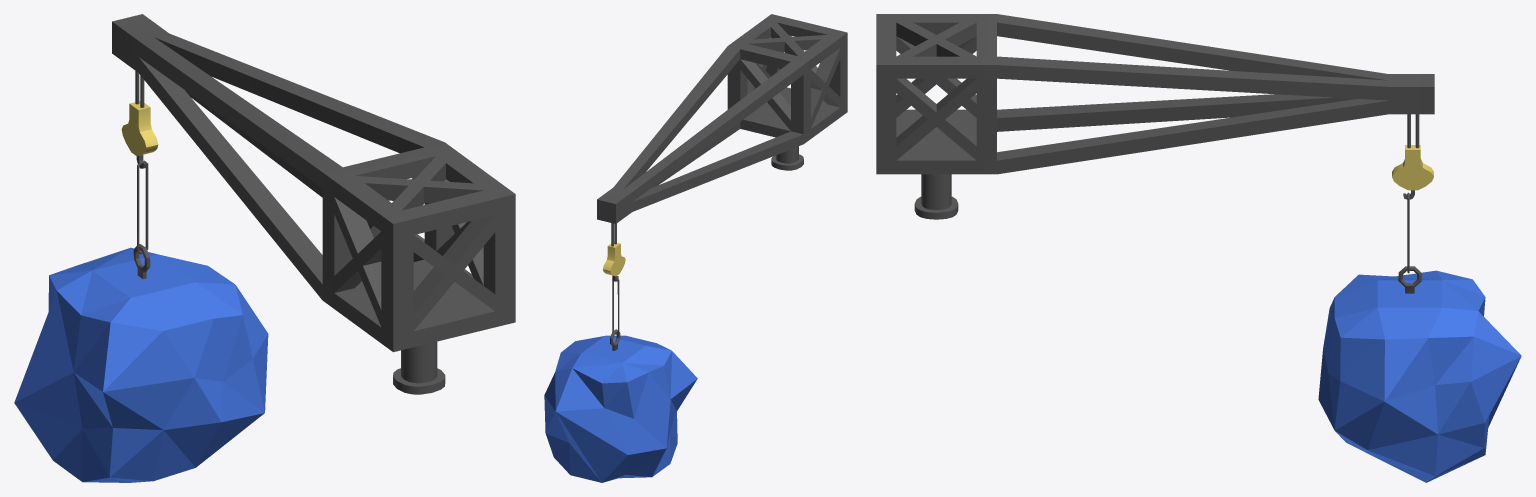
File: crane_top.fbx
3 renders of one model, left to right at view 1: azimuth 30°, elevation 25°; view 2: azimuth 150°, elevation 25°; view 3: azimuth 270°, elevation 25°, orthographic. The views are drawn at different scales.
Visible parts, largest first — view 1: top; view 2: top; view 3: top.
Boxes of the visible parts, x1,y1,x2,y2 form: top: (14, 14, 515, 482); top: (544, 14, 847, 482); top: (876, 14, 1521, 482).
Bounding box in the file's own units: 142 × 315 × 428.
